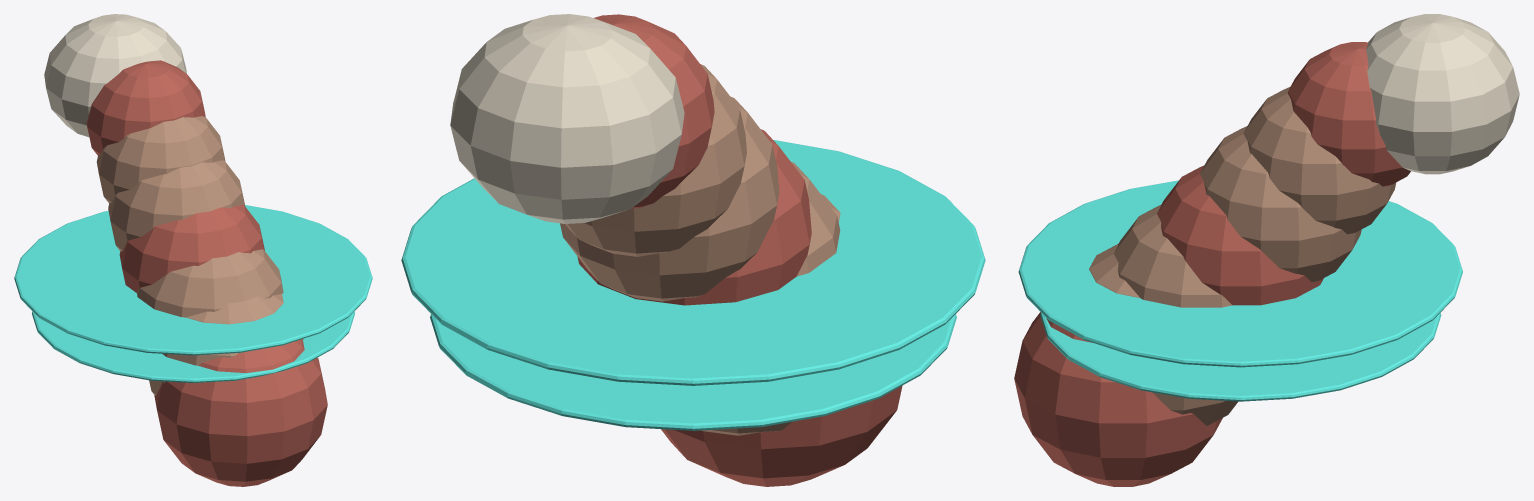
The model's file is Serpentine.fbx.
3 views of the same model, side by side, from view 1: azimuth 30°, elevation 25°; view 2: azimuth 150°, elevation 25°; view 3: azimuth 270°, elevation 25° (orthographic). The views are drawn at different scales.
Parts seen in each view (by area): view 1: GuardrailRing_1, CoilSegment_0, Head, CoilSegment_3, CoilSegment_6, CoilSegment_4, CoilSegment_2, CoilSegment_5, GuardrailRing_0, CoilSegment_1; view 2: GuardrailRing_1, Head, GuardrailRing_0, CoilSegment_4, CoilSegment_0, CoilSegment_5, CoilSegment_3, CoilSegment_6, CoilSegment_2, CoilSegment_1; view 3: GuardrailRing_1, Head, CoilSegment_0, GuardrailRing_0, CoilSegment_4, CoilSegment_5, CoilSegment_3, CoilSegment_6, CoilSegment_2, CoilSegment_1.
Boxes of the visible parts, box(x1,y1,x2,y2) form: GuardrailRing_1: box(14, 205, 372, 355); CoilSegment_0: box(154, 339, 327, 486); Head: box(44, 14, 186, 137); CoilSegment_3: box(119, 204, 264, 292); CoilSegment_6: box(86, 60, 205, 155); CoilSegment_4: box(108, 160, 244, 251); CoilSegment_2: box(137, 249, 283, 317); CoilSegment_5: box(96, 116, 225, 203); GuardrailRing_0: box(32, 311, 354, 382); CoilSegment_1: box(149, 294, 303, 395); GuardrailRing_1: box(401, 140, 985, 385); Head: box(450, 14, 684, 223); GuardrailRing_0: box(430, 314, 956, 430); CoilSegment_4: box(560, 96, 779, 301); CoilSegment_0: box(661, 385, 902, 486); CoilSegment_5: box(565, 64, 746, 256); CoilSegment_3: box(577, 129, 811, 305); CoilSegment_6: box(594, 14, 714, 208); CoilSegment_2: box(791, 161, 840, 276); CoilSegment_1: box(702, 194, 840, 435); GuardrailRing_1: box(1018, 180, 1462, 367); Head: box(1366, 14, 1519, 174); CoilSegment_0: box(1014, 312, 1222, 486); GuardrailRing_0: box(1040, 313, 1441, 401); CoilSegment_4: box(1200, 126, 1361, 282); CoilSegment_5: box(1243, 86, 1396, 234); CoilSegment_3: box(1157, 165, 1323, 305); CoilSegment_6: box(1287, 42, 1410, 186); CoilSegment_2: box(1114, 205, 1232, 307); CoilSegment_1: box(1089, 244, 1237, 425).
Bounding box in the file's own units: 2.04 × 2.3 × 2.32.
